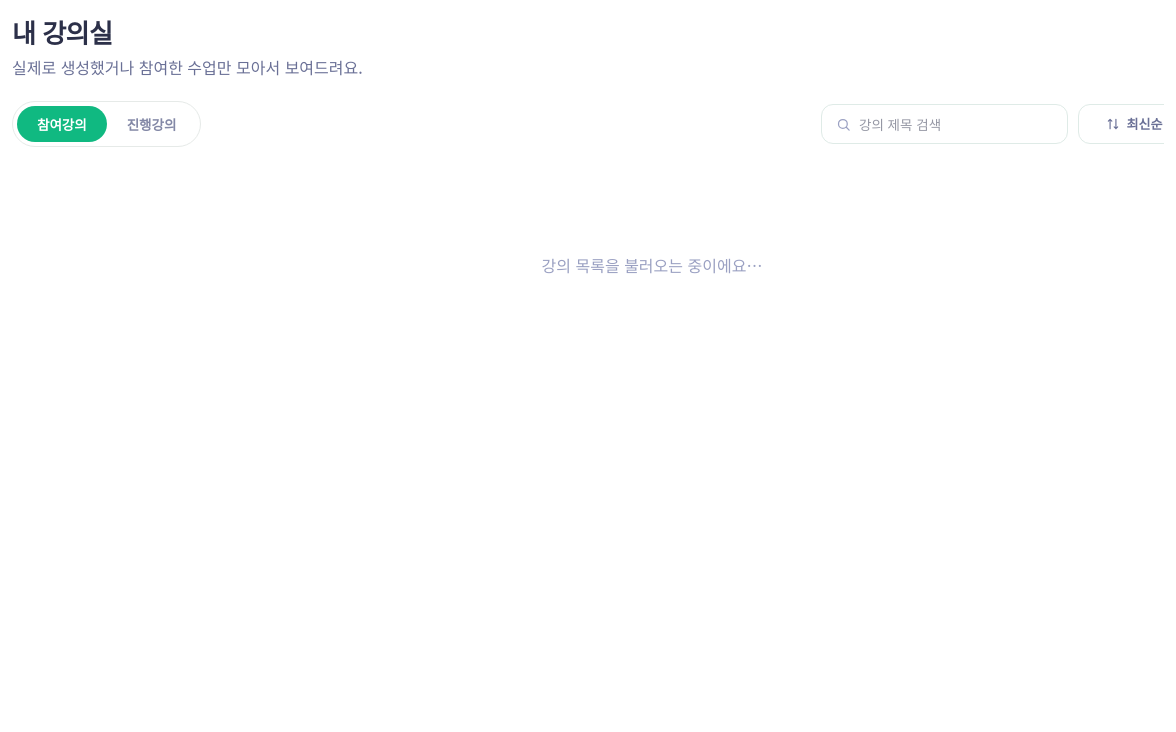
Scenario: MyLecturesScreen › 진행강의 카드에는 들어온 인원 수가 보인다
The width and height of the screenshot is (1176, 732).
Click the button "진행강의".
click(152, 124)  # box [107,106,196,142]
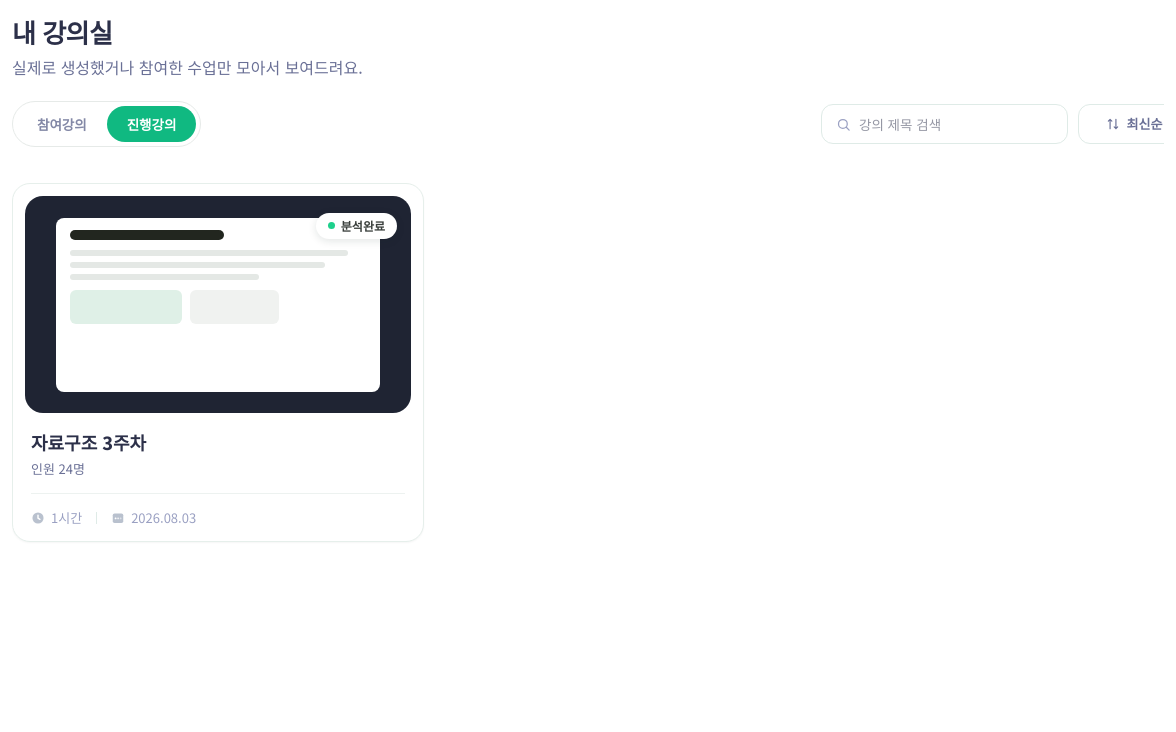
Result: the text "인원 24명" is shown at [31,460,85,478]
